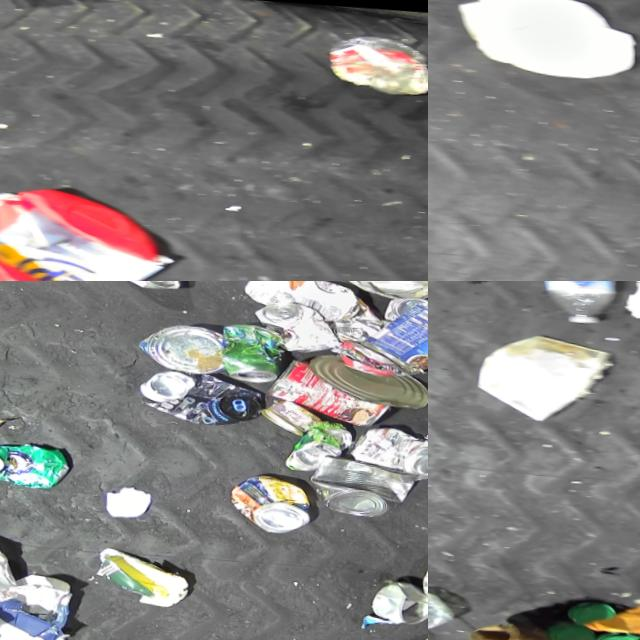can: (259, 357, 390, 431), (130, 366, 260, 431), (299, 453, 416, 524), (301, 352, 428, 412), (350, 301, 428, 384), (219, 473, 308, 538), (246, 301, 339, 359), (129, 320, 222, 377), (340, 424, 428, 484), (212, 325, 283, 388), (275, 420, 350, 476), (0, 438, 65, 492), (362, 579, 428, 628), (253, 398, 318, 440), (337, 281, 428, 305), (406, 545, 428, 626), (377, 296, 428, 326), (101, 281, 181, 292)
milk_jug: (435, 0, 640, 87)
non_white_jug: (0, 177, 170, 281)
plastic_bottle: (524, 281, 626, 332)
